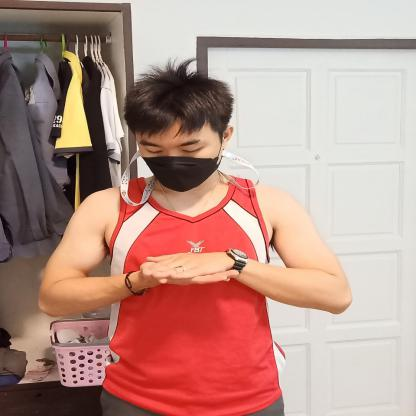Love: (74, 238, 314, 314)
